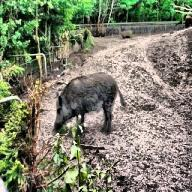boar: (54, 72, 126, 134)
